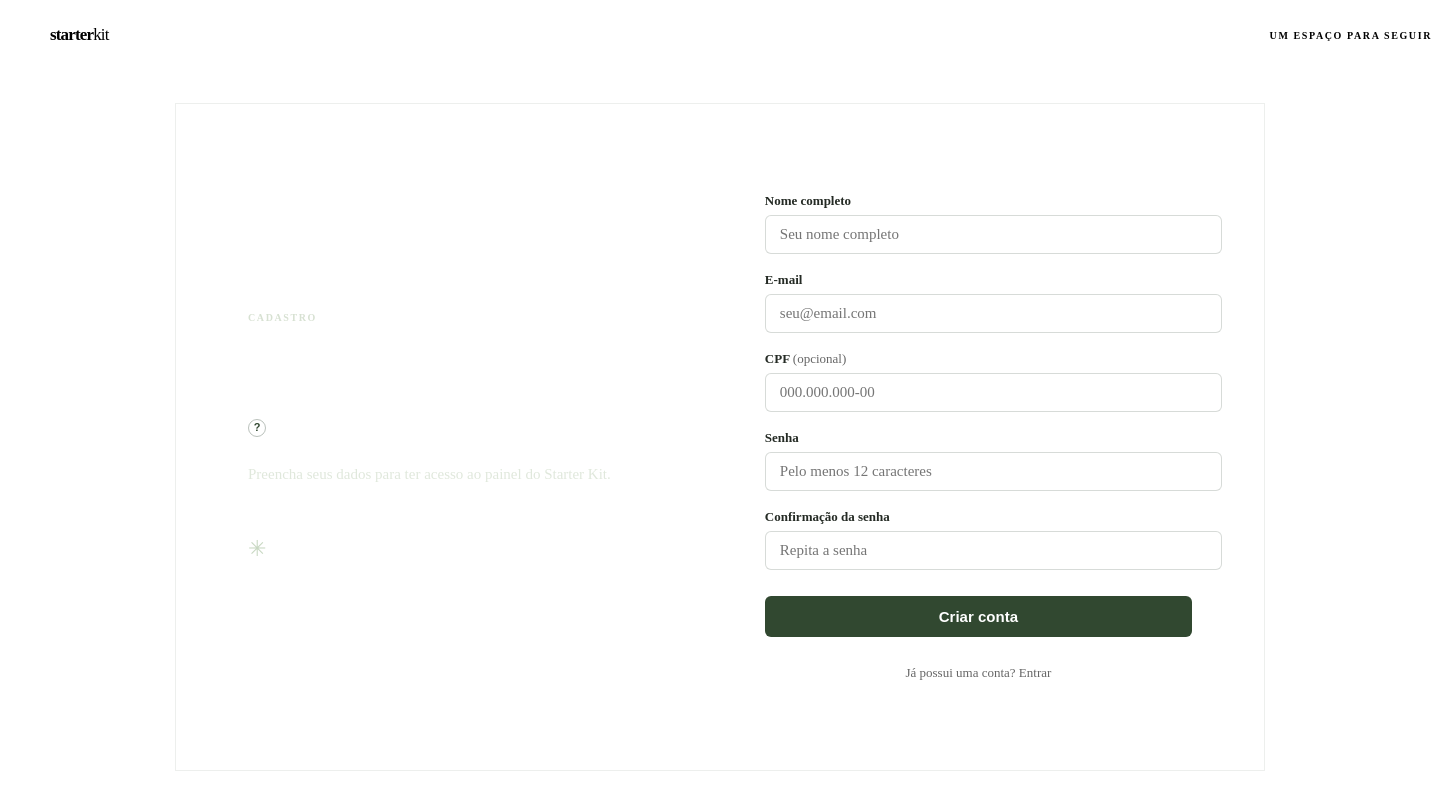
Scenario: RegisterPage.vue › validates that password must have at least 12 characters
Type "Carlos" into the field with id "register-name" at (993, 234), box top-left (765, 214), bottom-right (1222, 254)
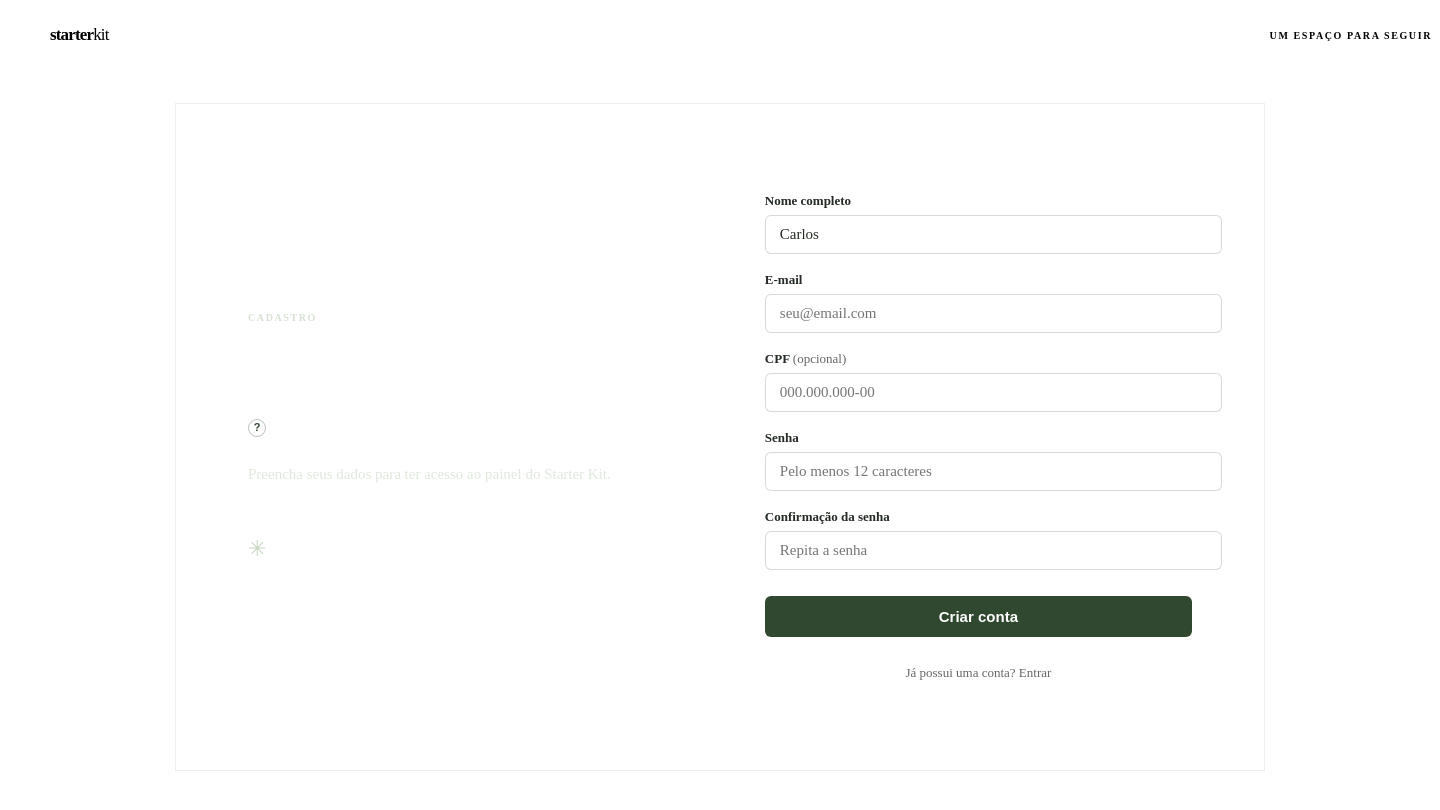
Type "carlos@example.com" into the field with id "register-email" at (993, 313), box top-left (765, 294), bottom-right (1222, 332)
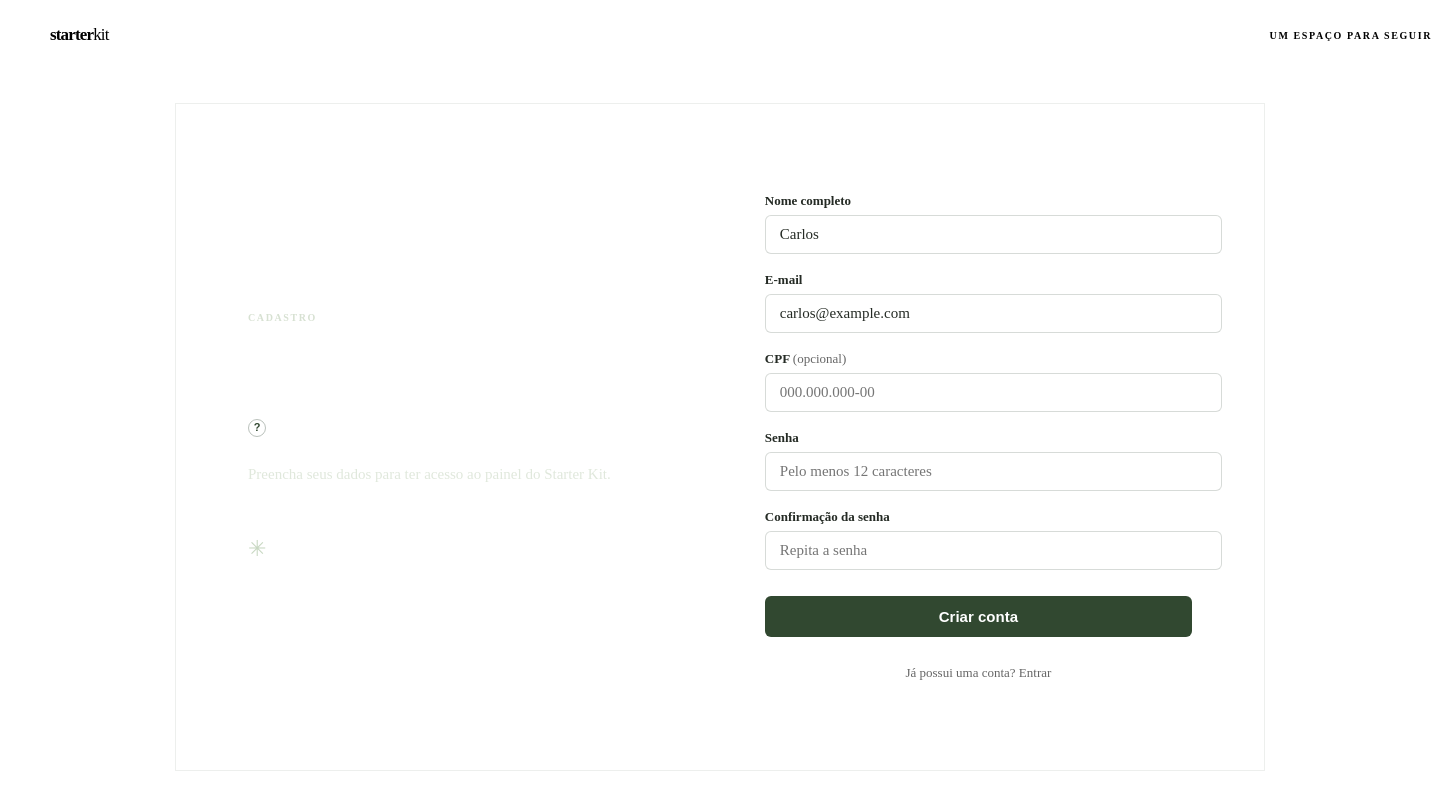
Type "short123" into the password field with id "register-password" at (993, 471), box top-left (765, 452), bottom-right (1222, 490)
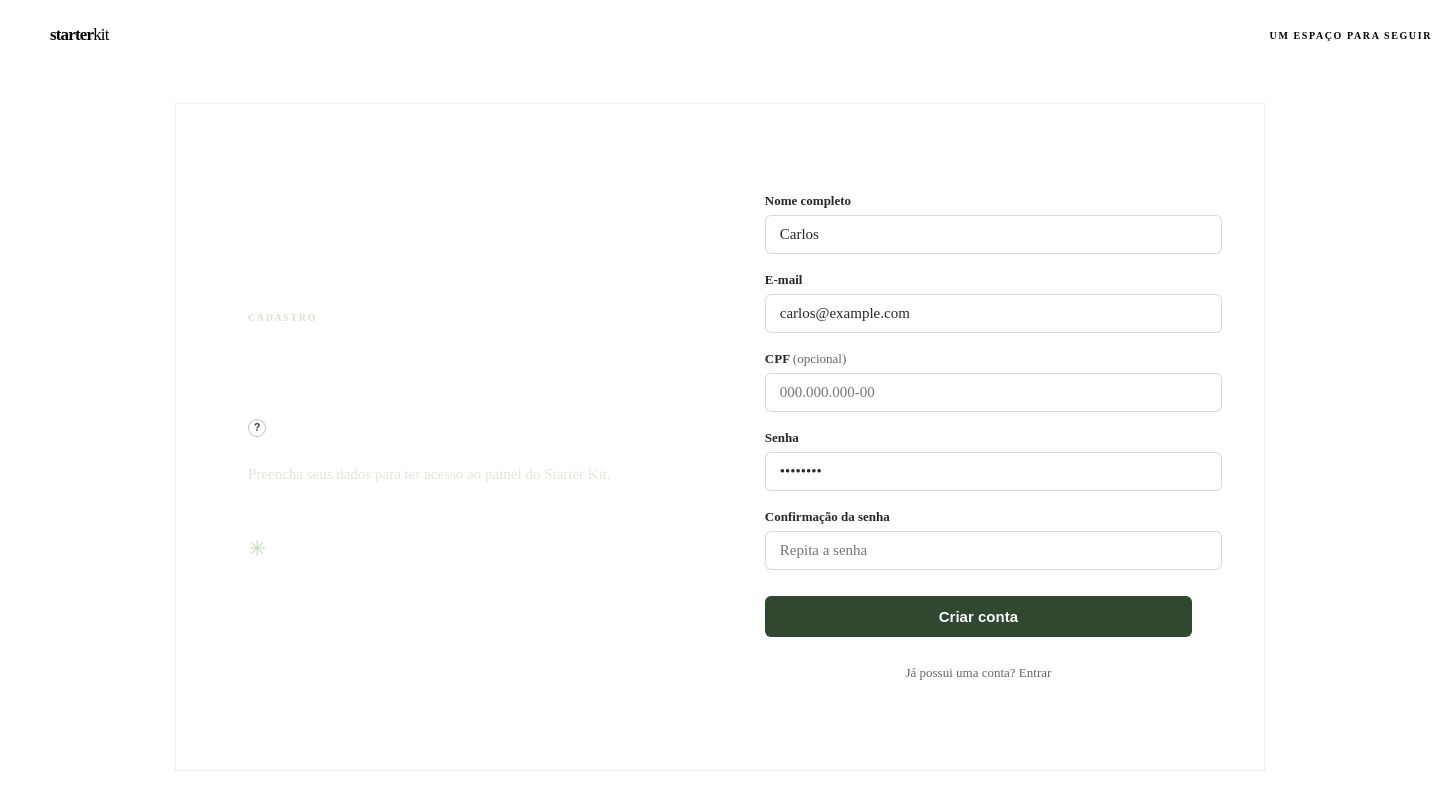
Type "short123" into the password field with id "register-password-confirmation" at (993, 550), box top-left (765, 530), bottom-right (1222, 570)
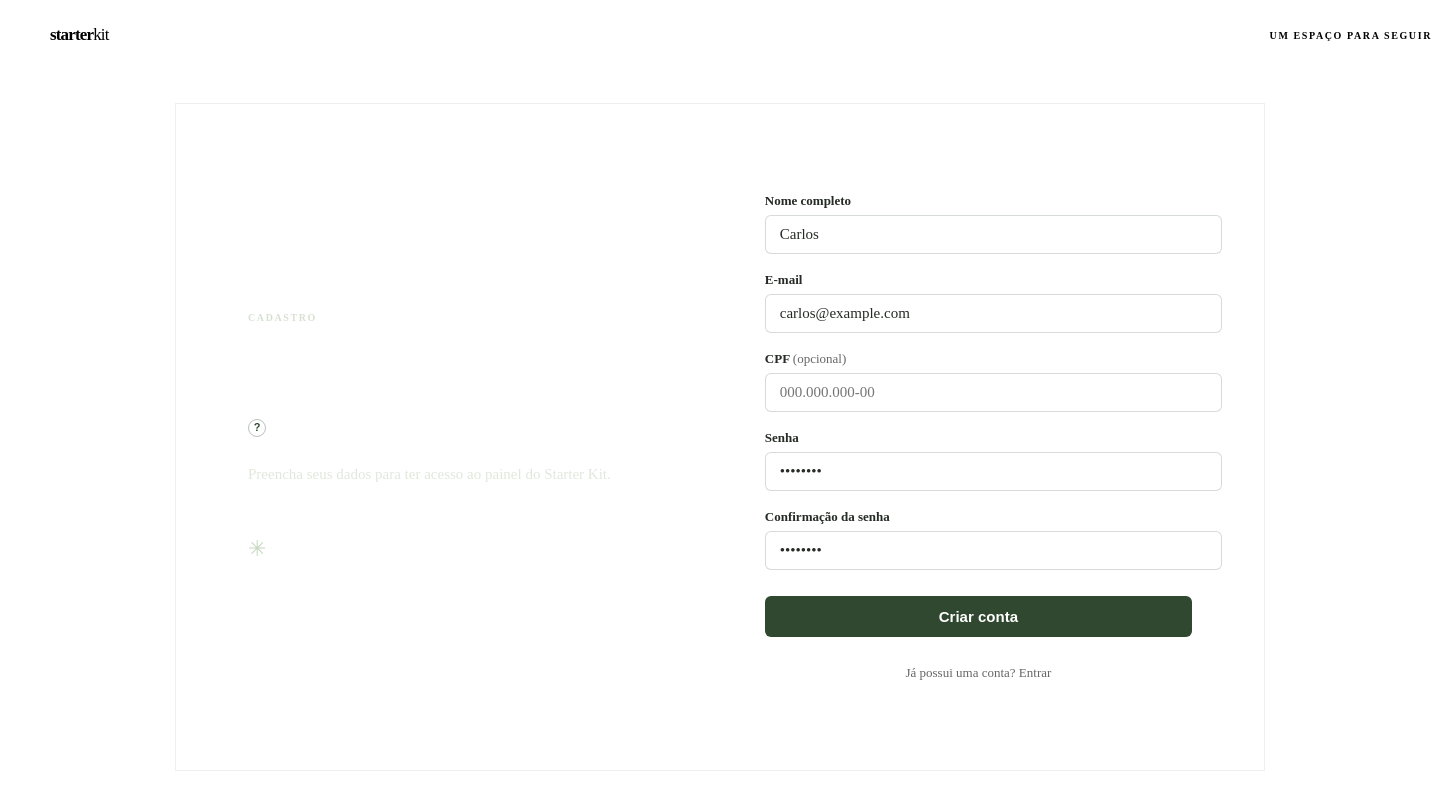
Submit the form, box top-left (765, 192), bottom-right (1192, 680)
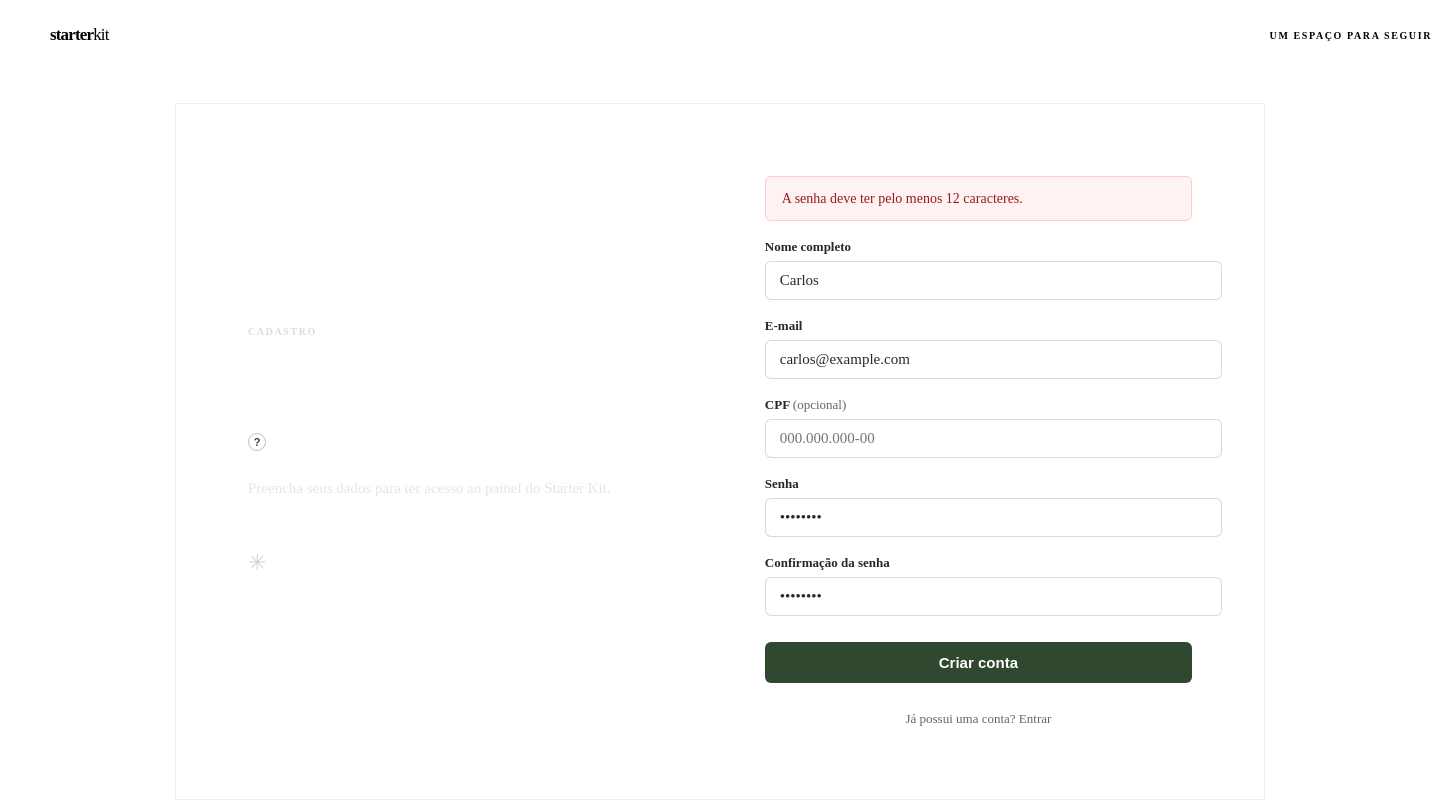
Check: the message "A senha deve ter pelo menos 12 caracteres." is shown, box top-left (765, 176), bottom-right (1192, 221)
